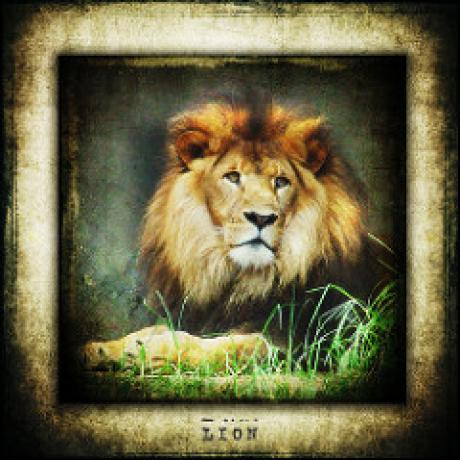Lion: (104, 98, 391, 383)
